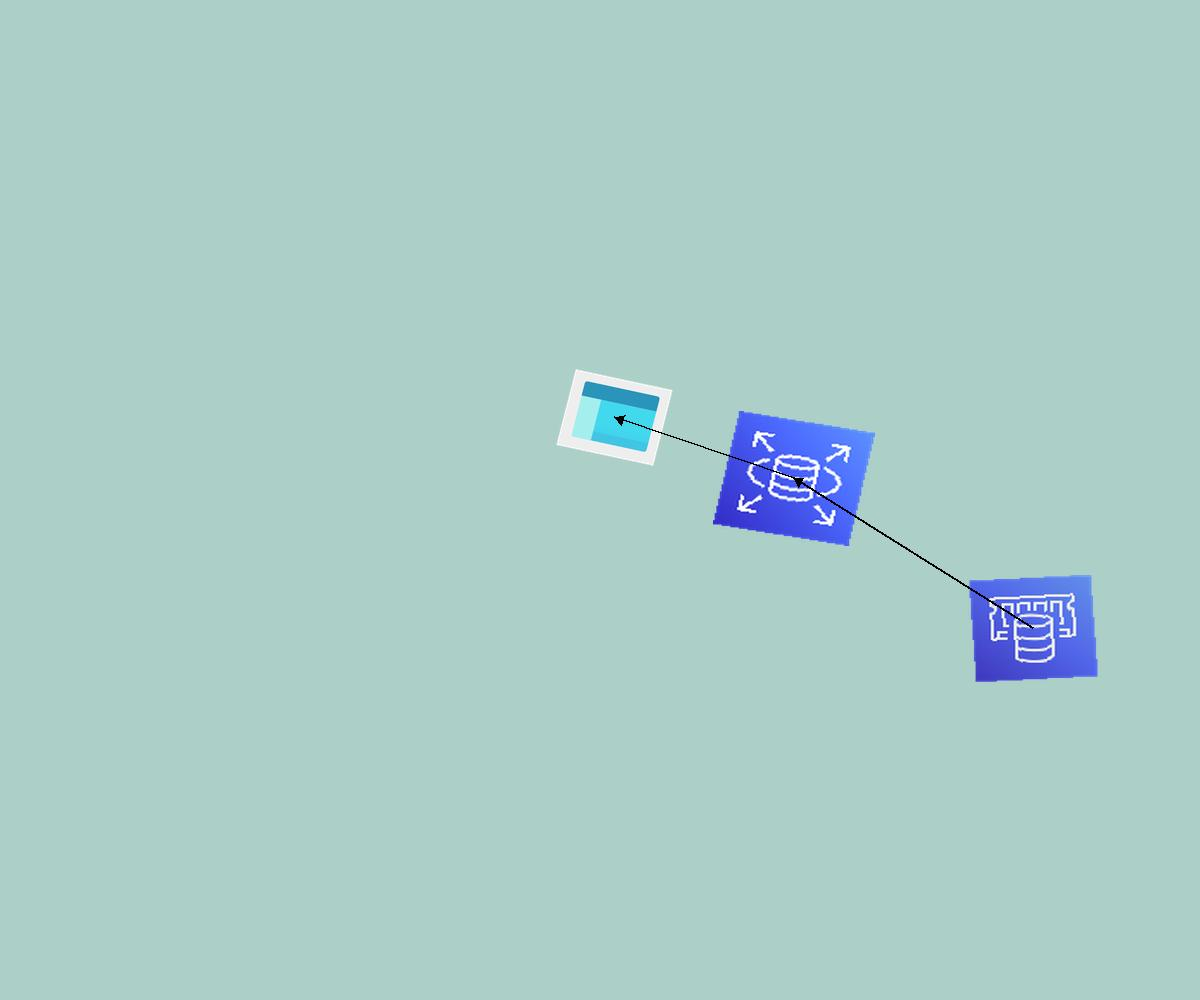AWS-ElastiCache: (968, 574, 1099, 683)
AWS-RDS: (713, 411, 875, 546)
Azure_management-portal: (556, 369, 673, 466)
